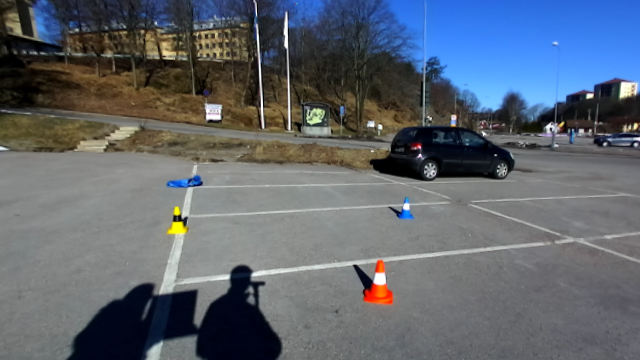blue: (396, 195, 416, 220)
orange: (361, 259, 396, 305)
yellow: (167, 205, 191, 236)
